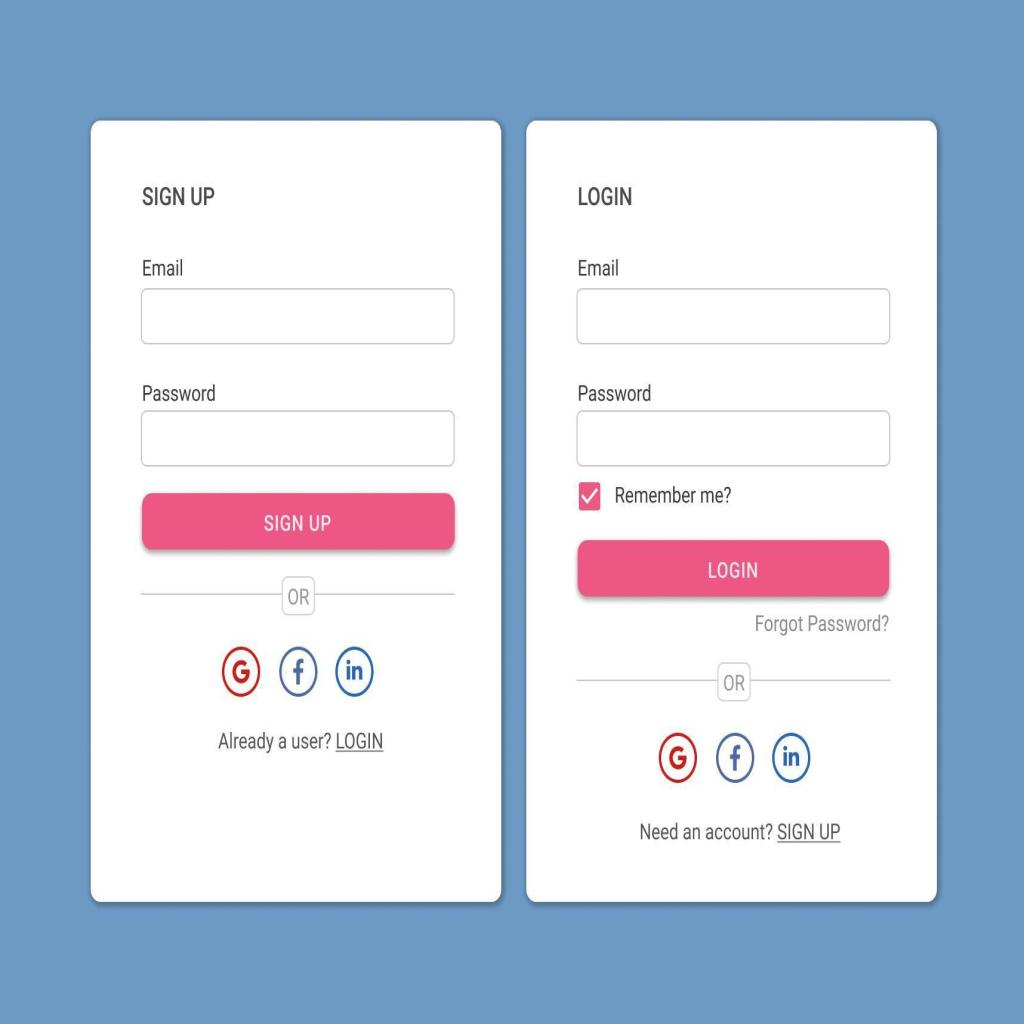button: (579, 536, 890, 602), (139, 491, 455, 552)
icon: (332, 644, 375, 698), (770, 732, 810, 783), (714, 734, 756, 782), (280, 642, 316, 697), (220, 648, 260, 696), (658, 732, 696, 781)
input: (577, 407, 890, 468), (139, 287, 457, 347), (575, 286, 891, 346), (139, 411, 457, 466)
label: (137, 178, 224, 211), (134, 377, 219, 409), (566, 178, 642, 213), (577, 378, 655, 406), (574, 254, 630, 280), (137, 251, 185, 280)
